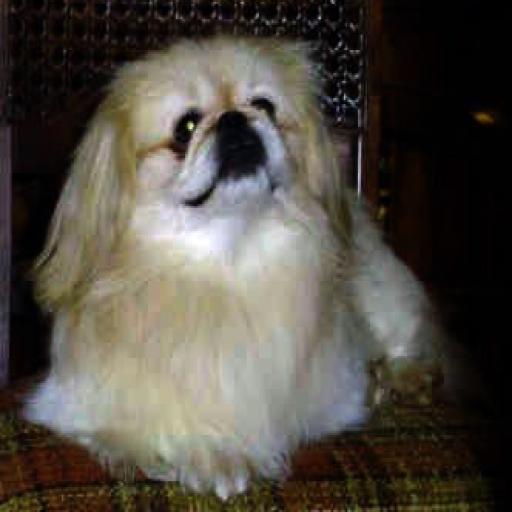dog_face: (83, 37, 335, 231)
